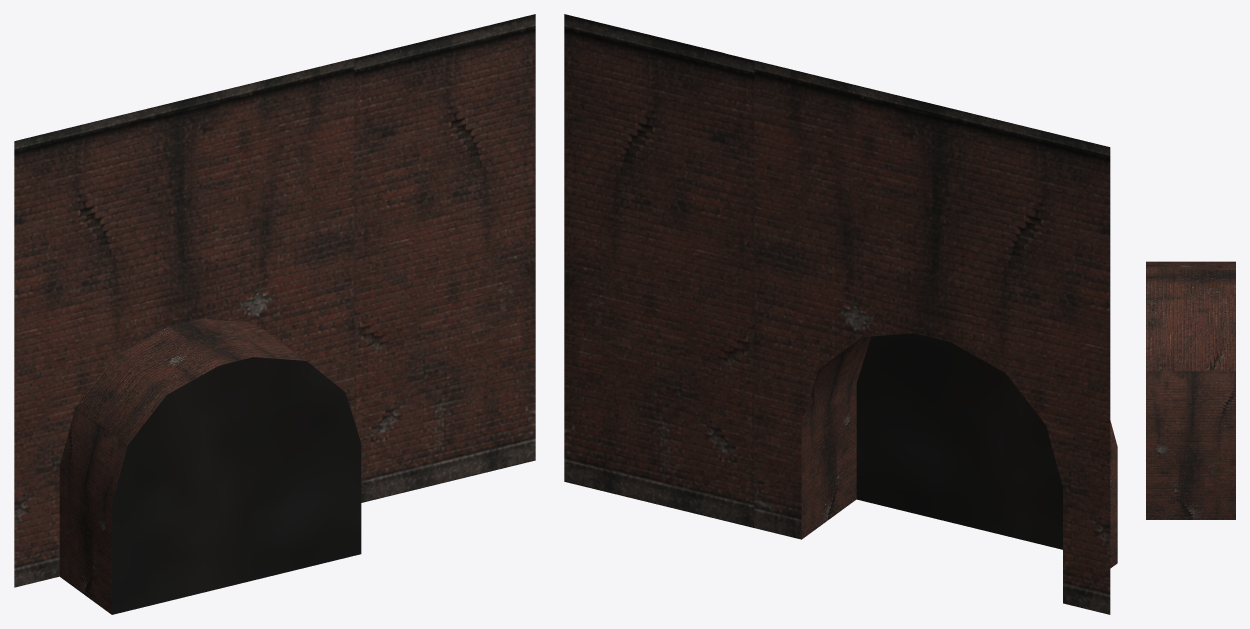
Rendered from HighwayTunel.fbx.
3 views of the same model, side by side, from view 1: azimuth 30°, elevation 25°; view 2: azimuth 150°, elevation 25°; view 3: azimuth 270°, elevation 25° (orthographic). The views are drawn at different scales.
Parts seen in each view (by area): view 1: HighwayTunel; view 2: HighwayTunel; view 3: HighwayTunel.
Part boxes in pixels (x1,y1,x2,y2): HighwayTunel: (14,14,535,614); HighwayTunel: (564,14,1117,614); HighwayTunel: (1146,261,1235,519).
Bounding box in the file's own units: 5.75 × 4.7 × 1.
